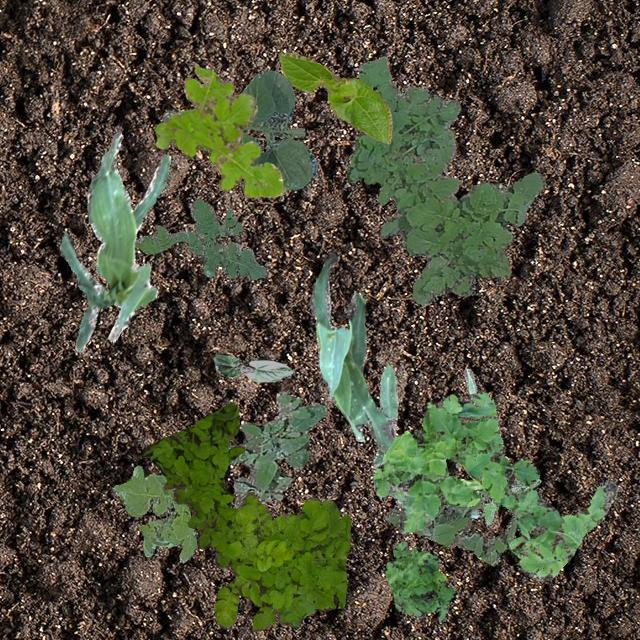crop: (59, 130, 170, 350), (160, 68, 316, 190), (308, 252, 394, 450), (372, 364, 482, 516), (278, 52, 390, 144), (212, 352, 292, 382)
weed: (346, 56, 544, 304), (372, 390, 618, 580), (140, 402, 272, 574), (213, 490, 349, 630), (153, 66, 284, 196), (226, 390, 326, 508), (132, 198, 266, 278), (382, 488, 518, 564), (111, 464, 196, 562), (384, 540, 454, 622), (482, 478, 540, 524)
